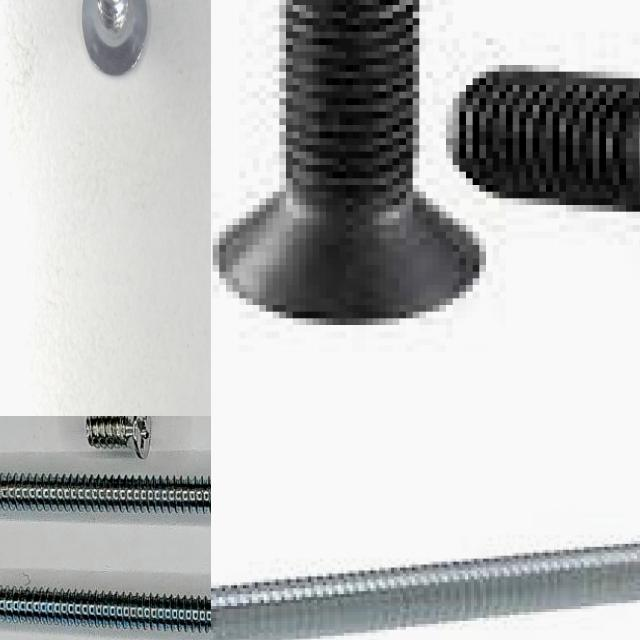Screw: (213, 0, 486, 325), (211, 541, 640, 640), (446, 65, 640, 211), (0, 586, 211, 633), (0, 473, 211, 513), (82, 0, 147, 74), (87, 416, 151, 458)
